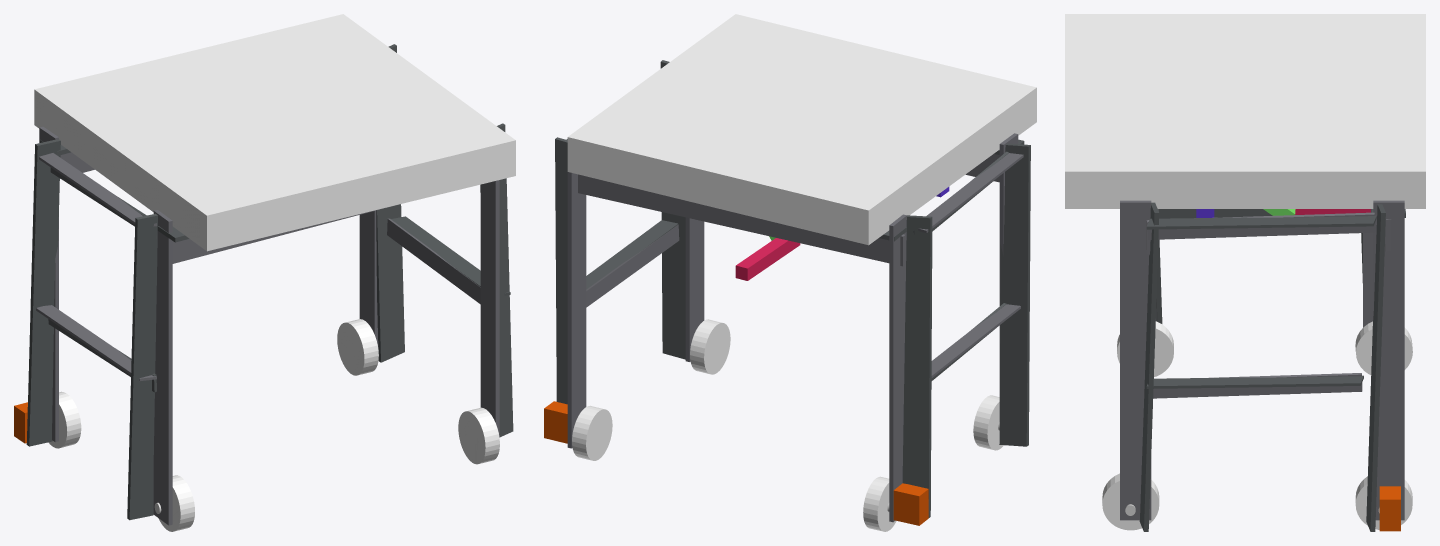
Rendered from new_rover1.glb.
3 renders of one model, left to right at view 1: azimuth 30°, elevation 25°; view 2: azimuth 150°, elevation 25°; view 3: azimuth 270°, elevation 25°, orthographic. The views are drawn at different scales.
Visible parts, largest first — view 1: Cube.002, Cube.012, Cube.009, Cube.010, Cube.001, Cube.006, Cube.003, Cube.004, Cylinder.001, Cylinder.002, lTempl.004, lTempl.001 (+6 smaller); view 2: Cube.002, Cube.012, Cube.009, lTempl.005, Cube.004, Cube.007, Cube.006, Cube.003, Cube.001, Cylinder.002, Cylinder.001, lTempl.004 (+9 smaller); view 3: Cube.002, Cube.001, Cube.004, Cube.006, Cube.003, ltempl2.003, lTempl.003, ltempl2.004, lTempl.004, Cylinder.001, Cube.005, Cylinder.004 (+4 smaller).
Boxes of the visible parts, <box> form: Cube.002: <box>34,14,515,251</box>; Cube.012: <box>127,213,157,520</box>; Cube.009: <box>26,139,60,446</box>; Cube.010: <box>153,210,172,525</box>; Cube.001: <box>480,180,499,437</box>; Cube.006: <box>376,44,404,362</box>; Cube.003: <box>480,123,513,437</box>; Cube.004: <box>359,210,378,346</box>; Cylinder.001: <box>458,407,499,464</box>; Cylinder.002: <box>337,319,378,375</box>; lTempl.004: <box>387,218,480,304</box>; lTempl.001: <box>36,305,156,380</box>; Cube.002: <box>567,14,1036,245</box>; Cube.012: <box>999,143,1030,446</box>; Cube.009: <box>902,215,932,517</box>; lTempl.005: <box>578,174,905,266</box>; Cube.004: <box>567,172,586,448</box>; Cube.007: <box>889,214,906,522</box>; Cube.006: <box>555,137,567,404</box>; Cube.003: <box>660,60,685,359</box>; Cube.001: <box>685,217,704,361</box>; Cylinder.002: <box>572,405,612,460</box>; Cylinder.001: <box>690,319,730,374</box>; lTempl.004: <box>586,224,679,307</box>; Cube.002: <box>1065,14,1425,208</box>; Cube.001: <box>1120,200,1151,520</box>; Cube.004: <box>1373,200,1404,520</box>; Cube.006: <box>1366,204,1385,531</box>; Cube.003: <box>1139,202,1159,531</box>; ltempl2.003: <box>1146,215,1376,229</box>; lTempl.003: <box>1147,212,1375,239</box>; ltempl2.004: <box>1146,375,1363,388</box>; lTempl.004: <box>1153,373,1362,398</box>; Cylinder.001: <box>1102,473,1159,530</box>; Cube.005: <box>1379,486,1400,531</box>; Cylinder.004: <box>1355,321,1412,374</box>.
Size of the model in its own units: 5.17 by 4.43 by 4.05.
